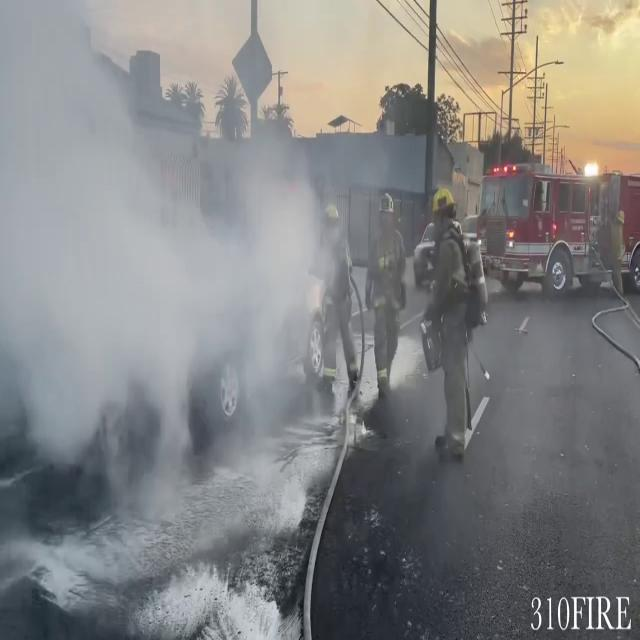Smoke: (0, 2, 382, 528)
